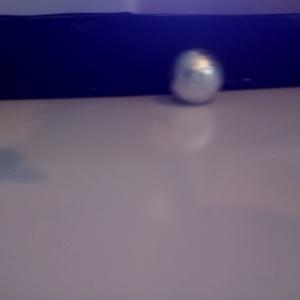zone: (1, 12, 300, 100)
